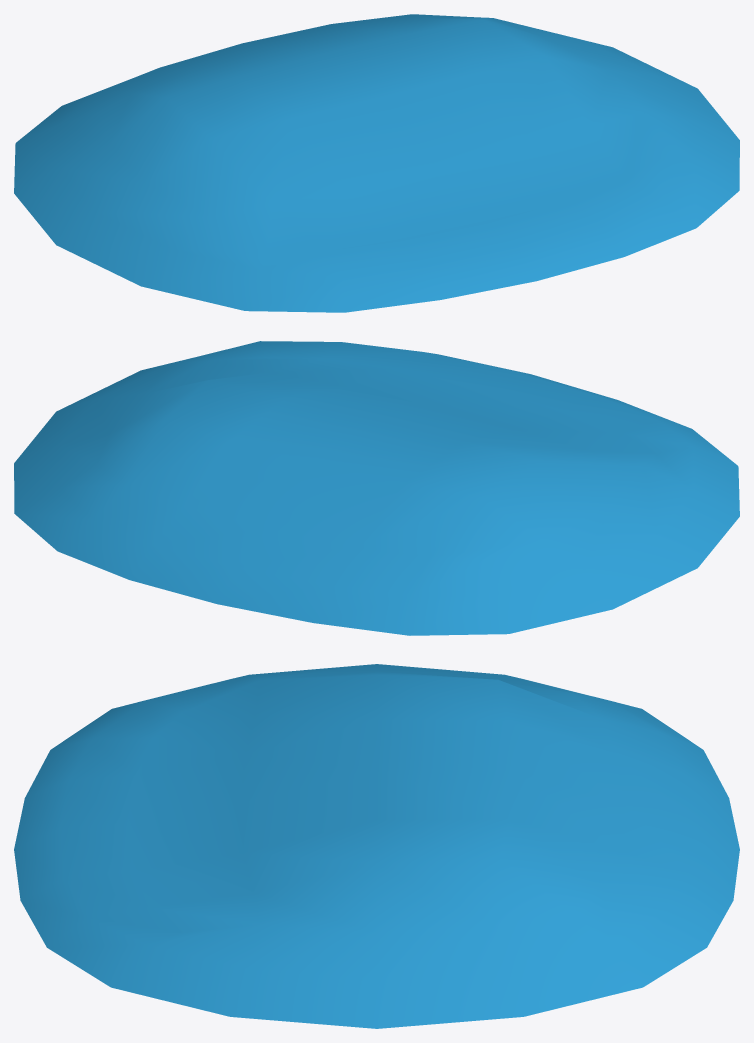
File: Rock_Mound_02.fbx
3 views of the same model, one above another, from view 1: azimuth 30°, elevation 25°; view 2: azimuth 150°, elevation 25°; view 3: azimuth 270°, elevation 25° (orthographic). The views are drawn at different scales.
Visible parts, largest first — view 1: Rock_Mound_02; view 2: Rock_Mound_02; view 3: Rock_Mound_02.
Part boxes in pixels (box(x1,y1,x2,y2)): Rock_Mound_02: box(14, 14, 739, 312); Rock_Mound_02: box(14, 341, 739, 635); Rock_Mound_02: box(14, 664, 739, 1028).
Bounding box in the file's own units: 1888 × 193 × 1601.
